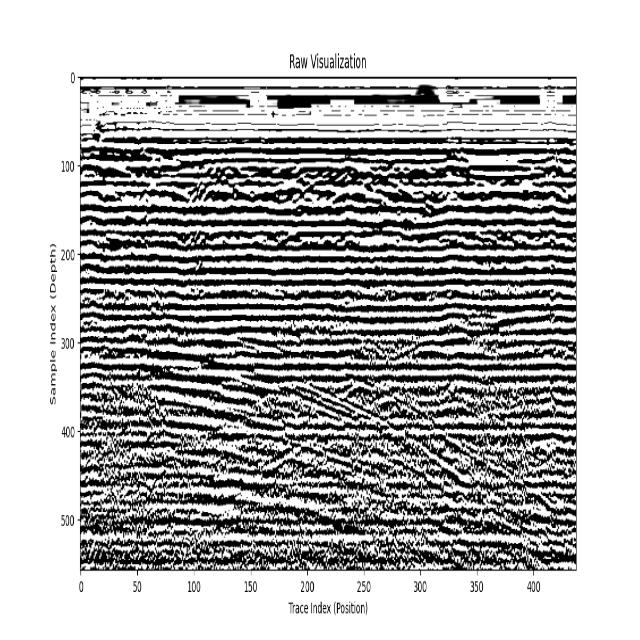anomaly: (224, 361, 570, 571)
